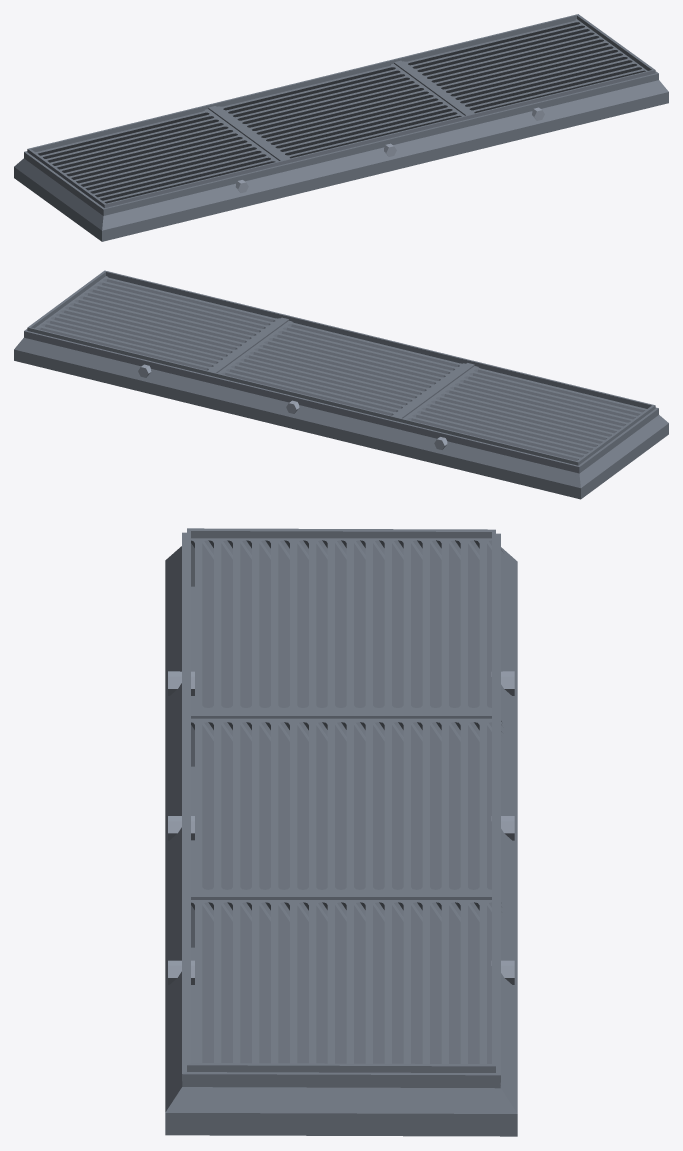
Rendered from board_type87-arv.fbx.
3 views of the same model, one above another, from view 1: azimuth 30°, elevation 25°; view 2: azimuth 150°, elevation 25°; view 3: azimuth 270°, elevation 25° (orthographic). The views are drawn at different scales.
Visible parts, largest first — view 1: board.type87-arv; view 2: board.type87-arv; view 3: board.type87-arv.
Part boxes in pixels (x1,y1,x2,y2): board.type87-arv: (14,14,668,241); board.type87-arv: (14,270,668,499); board.type87-arv: (165,528,517,1136).
Size of the model in its own units: 2.69 by 0.1461 by 0.725.
